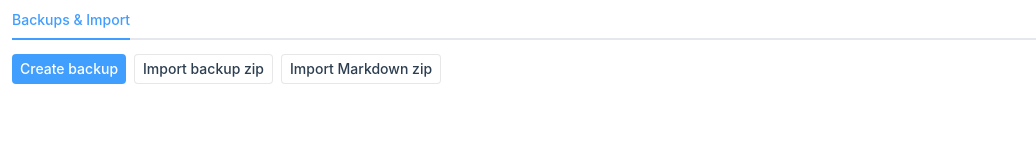
Test: admin backups tab › 发起备份 → 轮询至 done → 产物列表刷新
Click the button with test id "btn-start-backup" at (69, 69), box [12,54,126,84]
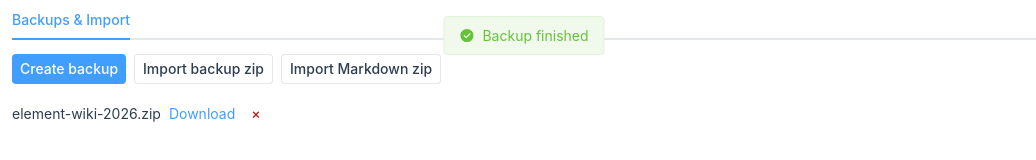
Now the link with test id "backup-download" is shown, box [169,104,235,124]
